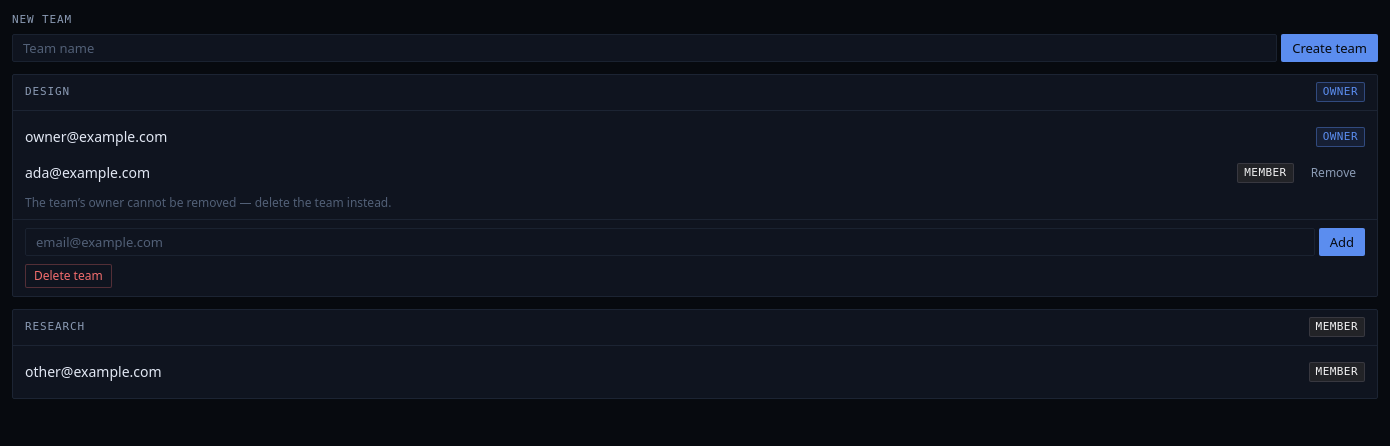
Scenario: TeamManagement › has no accessibility violations when team creation fails with a 500
Expected: the text "ada@example.com" is shown, top-left (25, 163), bottom-right (150, 182)
Type "Broken" into the field named "New team name" at (645, 48), box top-left (12, 34), bottom-right (1277, 62)
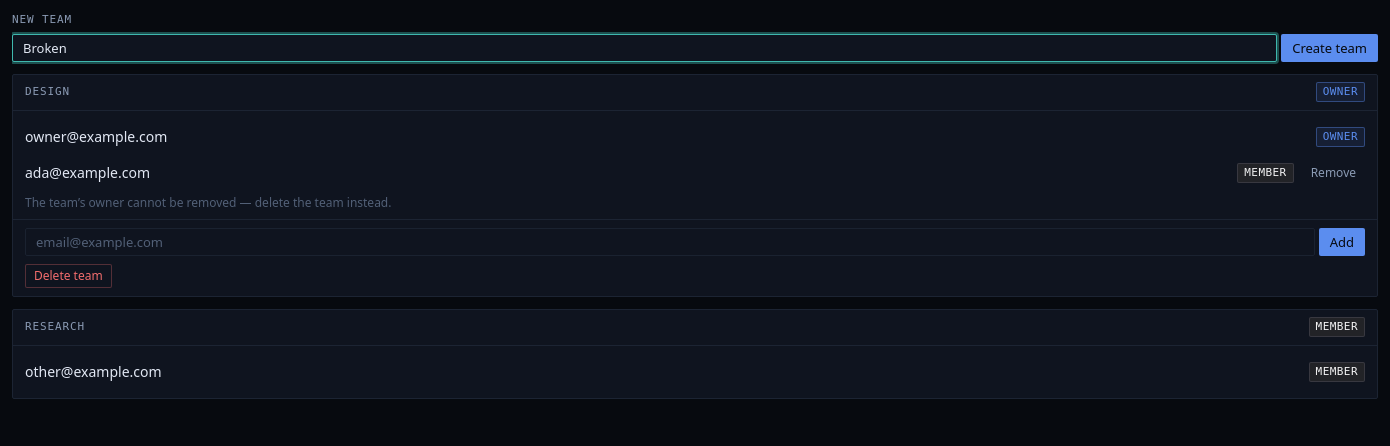
Click the button "Create team" at (1330, 48), box top-left (1281, 34), bottom-right (1378, 62)
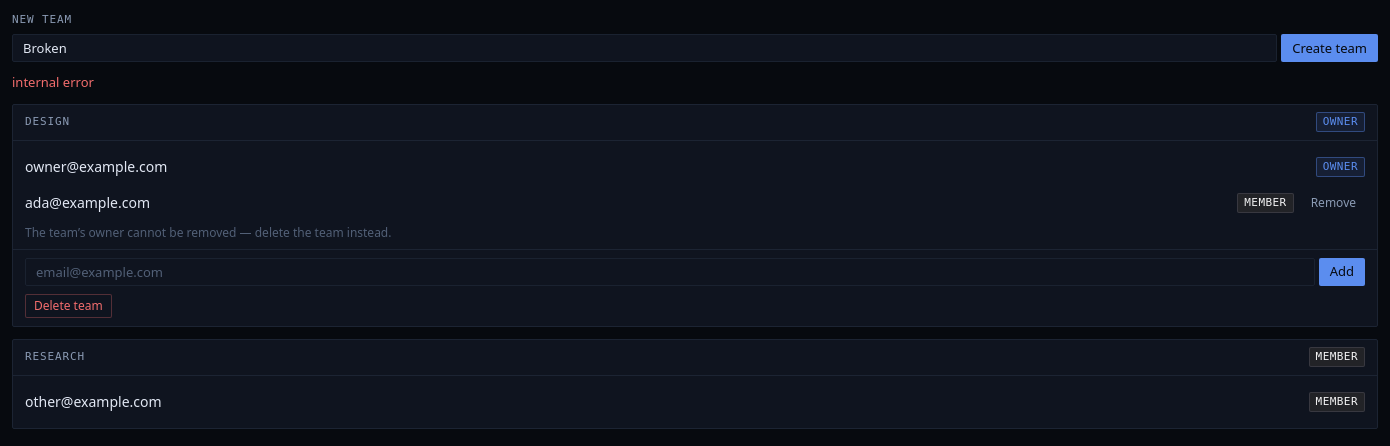
Expected: the message "internal error" is shown, top-left (12, 73), bottom-right (94, 91)
